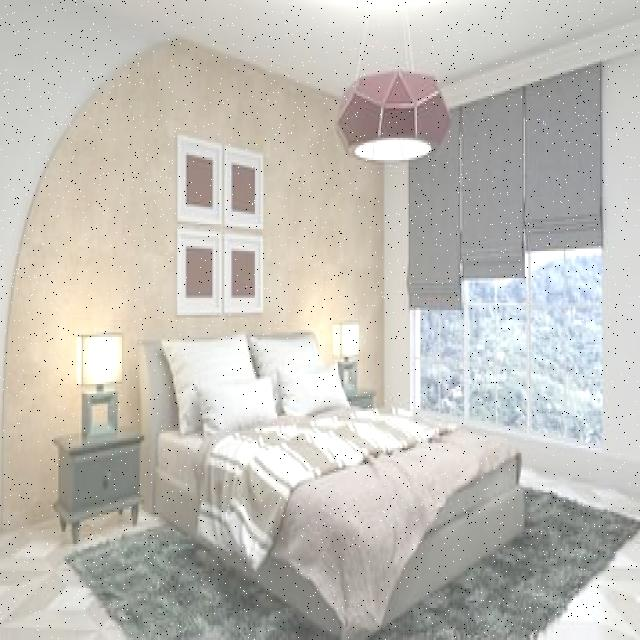bed: (148, 328, 524, 640)
